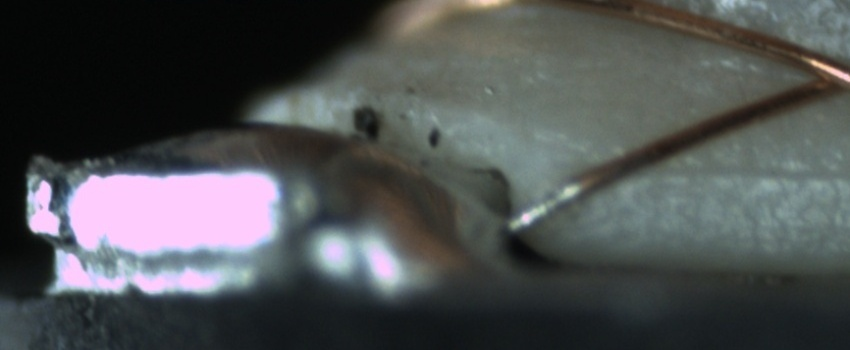CL: (777, 45, 847, 104)
DL: (623, 137, 848, 208)
TS: (506, 179, 578, 233)
TTCW: (508, 160, 612, 235)
